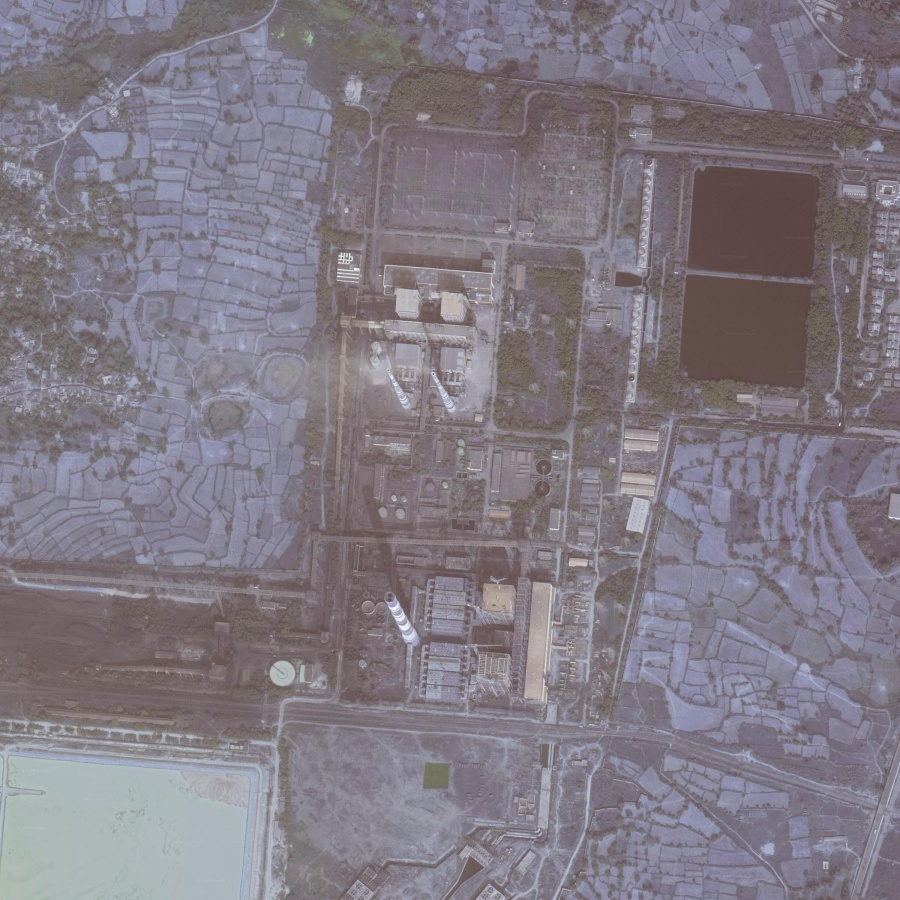PowerPlant: (340, 128, 831, 711)
